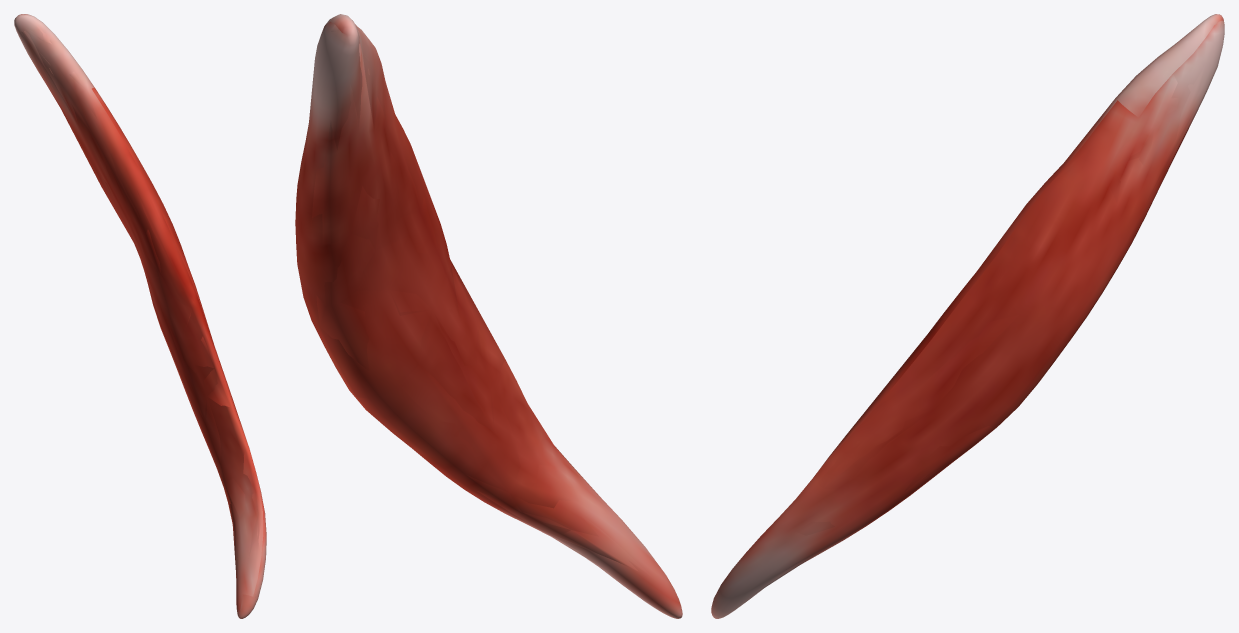
The model's file is L Deltoideus.fbx.
3 renders of one model, left to right at view 1: azimuth 30°, elevation 25°; view 2: azimuth 150°, elevation 25°; view 3: azimuth 270°, elevation 25°, orthographic. The views are drawn at different scales.
Parts seen in each view (by area): view 1: L Deltoideus, L Deltoideus low; view 2: L Deltoideus, L Deltoideus low; view 3: L Deltoideus, L Deltoideus low.
Boxes of the visible parts, bbox=[...] form: L Deltoideus: bbox=[14, 14, 266, 618]; L Deltoideus low: bbox=[15, 16, 265, 611]; L Deltoideus: bbox=[295, 14, 682, 618]; L Deltoideus low: bbox=[297, 23, 680, 605]; L Deltoideus: bbox=[711, 14, 1224, 618]; L Deltoideus low: bbox=[715, 20, 1221, 599].
Size of the model in its own units: 7.6 by 37.99 by 29.96.
